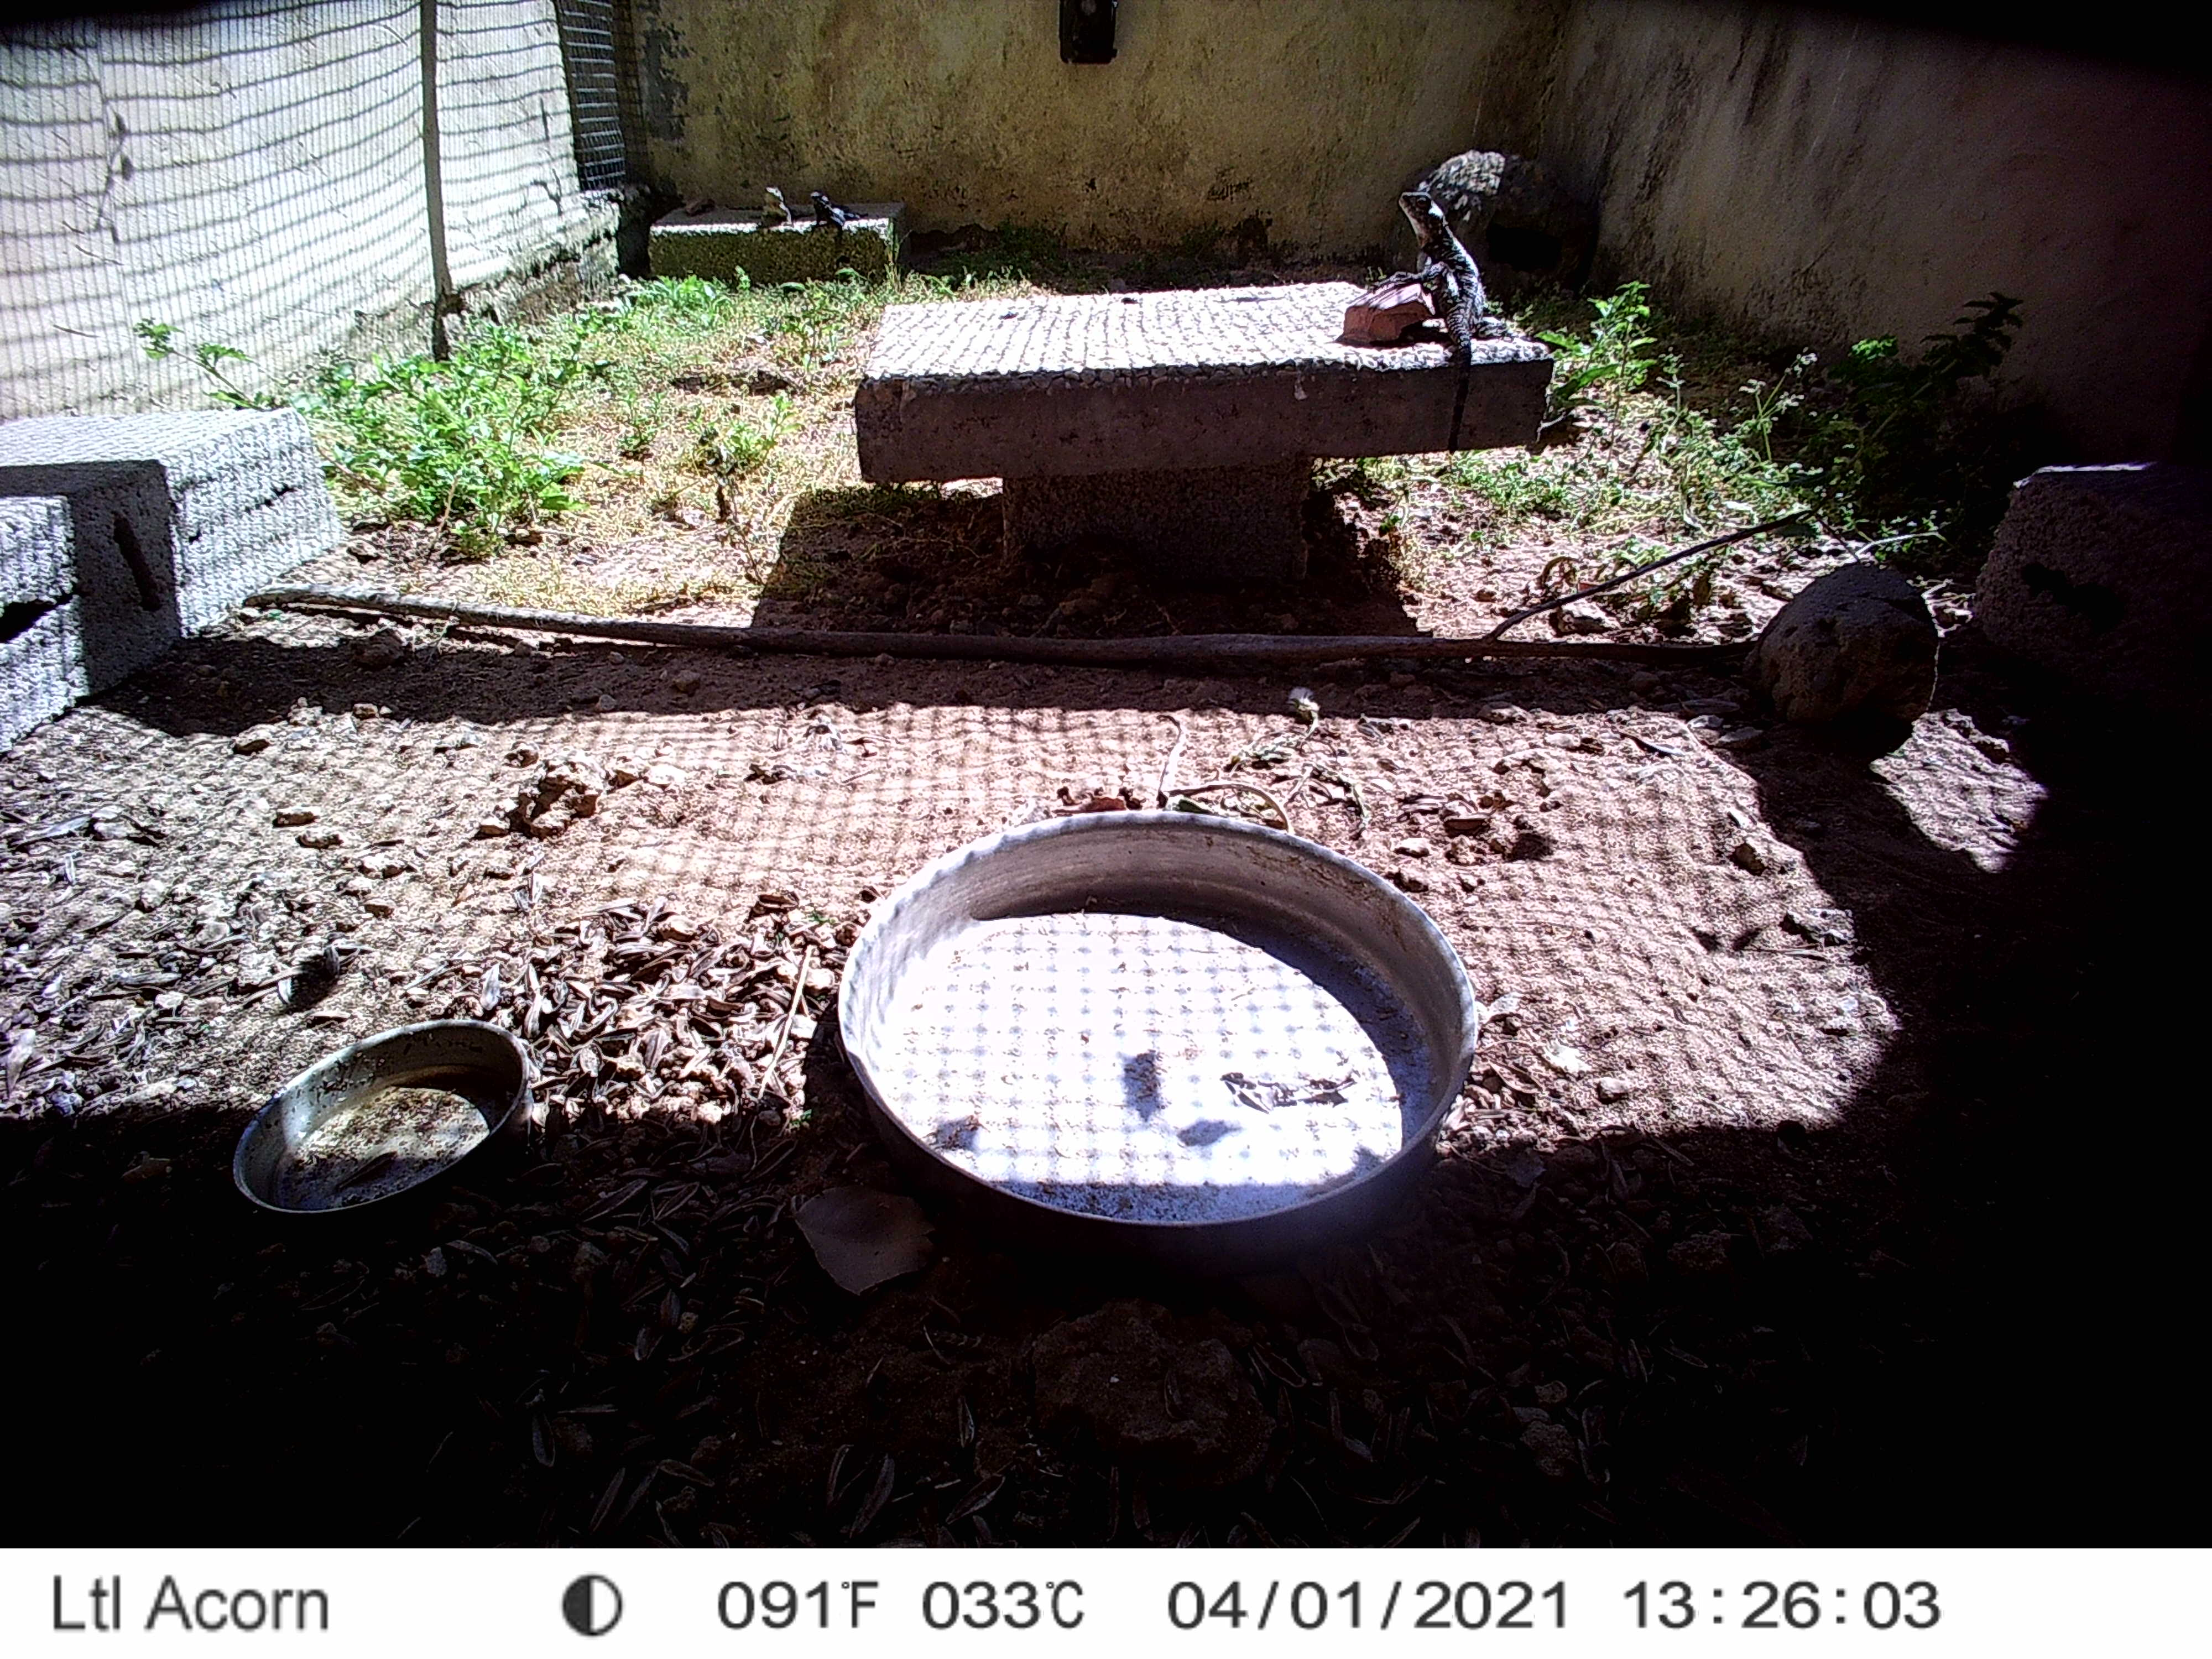lizard: (1381, 190, 1510, 458), (810, 188, 867, 239), (759, 181, 796, 237)
